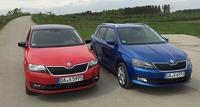car: (91, 22, 192, 89), (25, 24, 99, 93)
